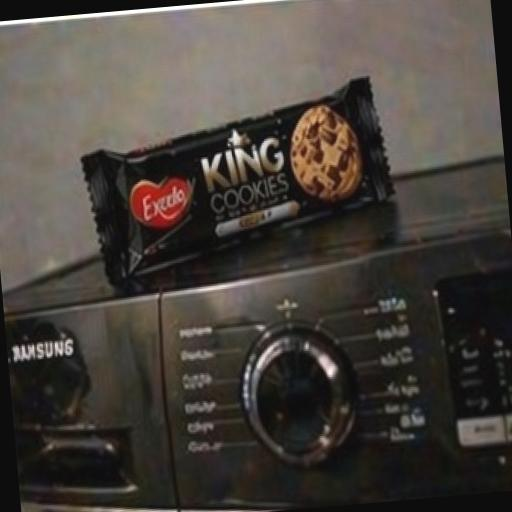king-cooking: (43, 72, 438, 342)
